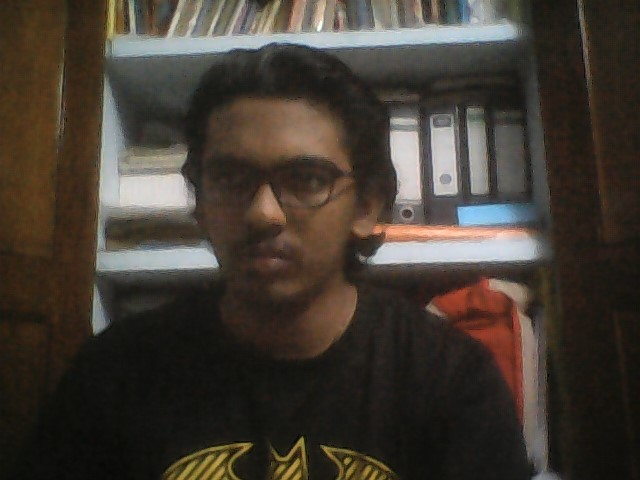person: (35, 39, 489, 457)
